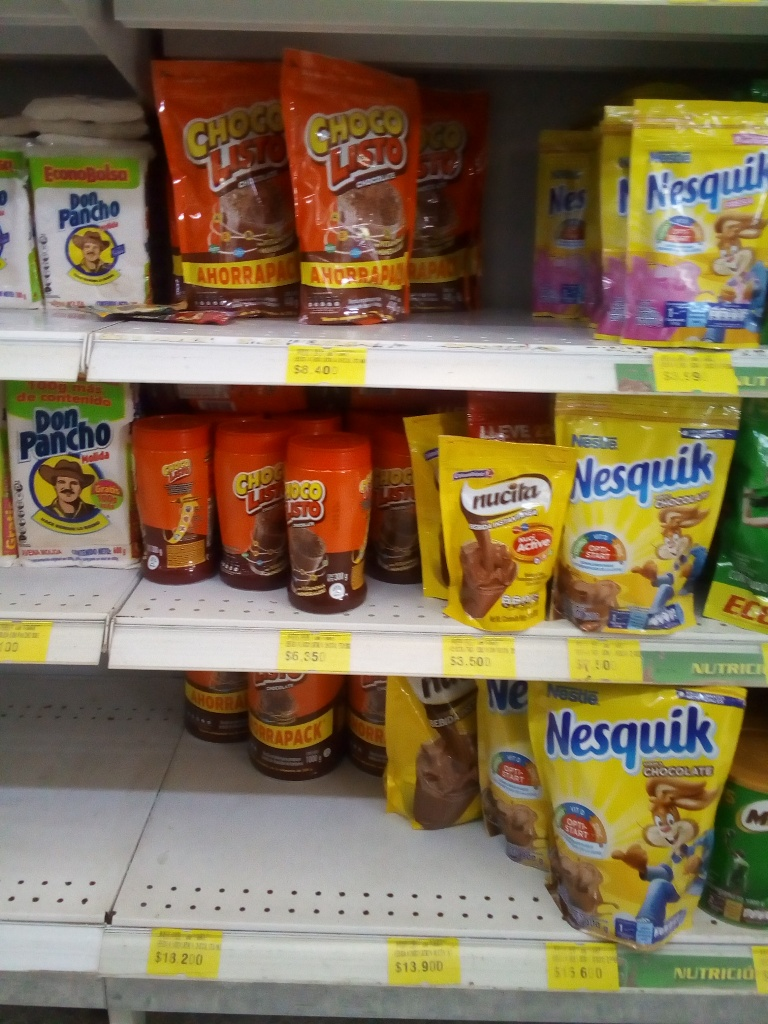COL0170103DYP44000: (143, 51, 308, 323)
COL0170103TRR00100: (171, 664, 246, 767)
COL0170103TRR30000: (138, 419, 221, 586)
COL0170305DYP20000: (610, 102, 760, 354)
